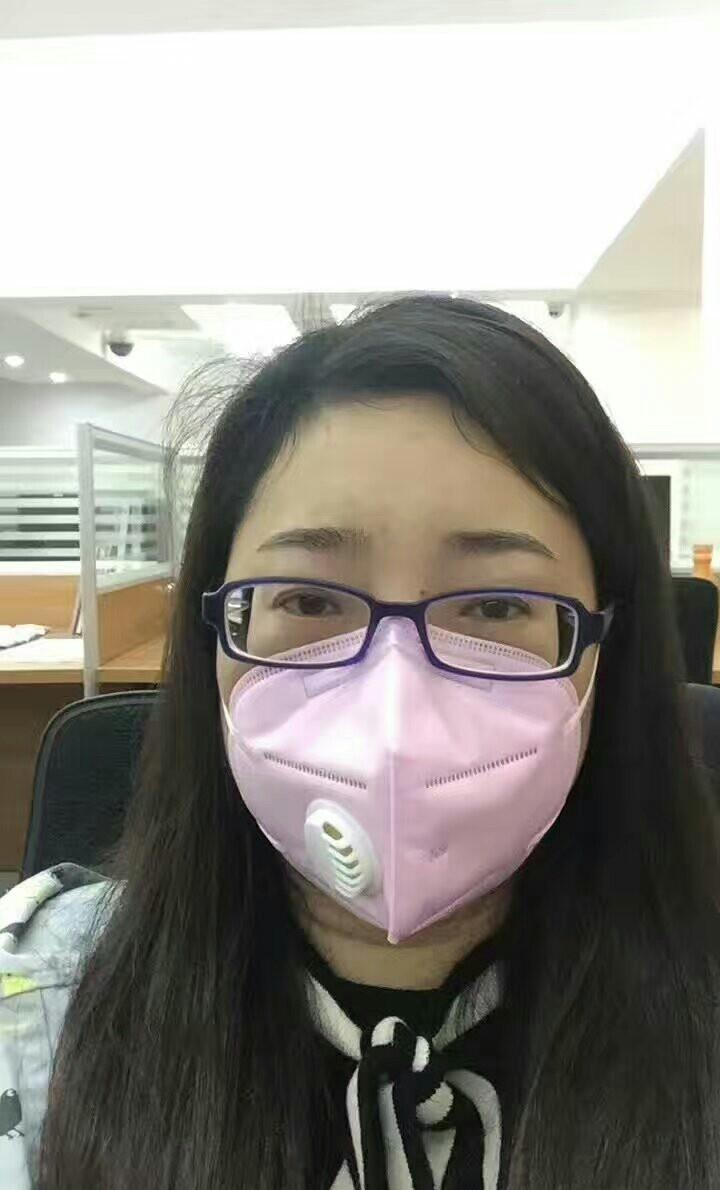Mask: (221, 514, 637, 930)
